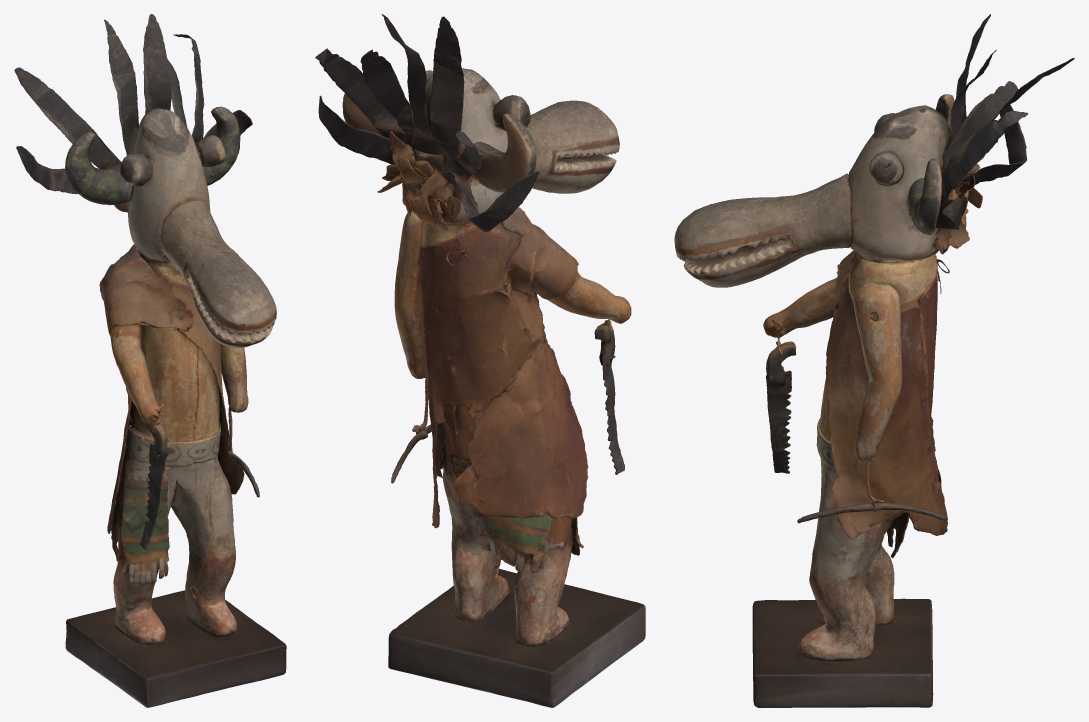
The picture shows the model from 3 angles, left to right: view 1: azimuth 30°, elevation 25°; view 2: azimuth 150°, elevation 25°; view 3: azimuth 270°, elevation 25°; orthographic projection. The views are drawn at different scales.
Parts seen in each view (by area): view 1: ADVIMG_2021_434_12_WhiteOgreTihu_Textured_n3d; view 2: ADVIMG_2021_434_12_WhiteOgreTihu_Textured_n3d; view 3: ADVIMG_2021_434_12_WhiteOgreTihu_Textured_n3d.
Part boxes in pixels (x1,y1,x2,y2): ADVIMG_2021_434_12_WhiteOgreTihu_Textured_n3d: (14,14,286,707); ADVIMG_2021_434_12_WhiteOgreTihu_Textured_n3d: (315,14,645,707); ADVIMG_2021_434_12_WhiteOgreTihu_Textured_n3d: (674,14,1074,707).
Bounding box in the file's own units: 19.12 × 51.42 × 28.49.
Materials: 1 (1 with a texture image).
